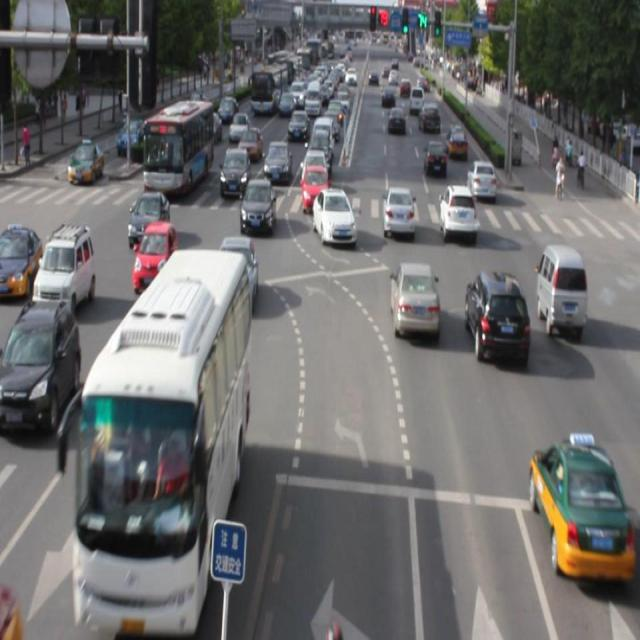car: (533, 438, 629, 578), (1, 299, 81, 436), (466, 268, 527, 358), (390, 259, 440, 342), (218, 235, 259, 311), (134, 221, 179, 289), (310, 188, 357, 246), (129, 191, 170, 249), (438, 184, 475, 237), (240, 178, 274, 232), (383, 187, 414, 234)
truck: (537, 243, 584, 332)
van: (75, 249, 248, 640)
